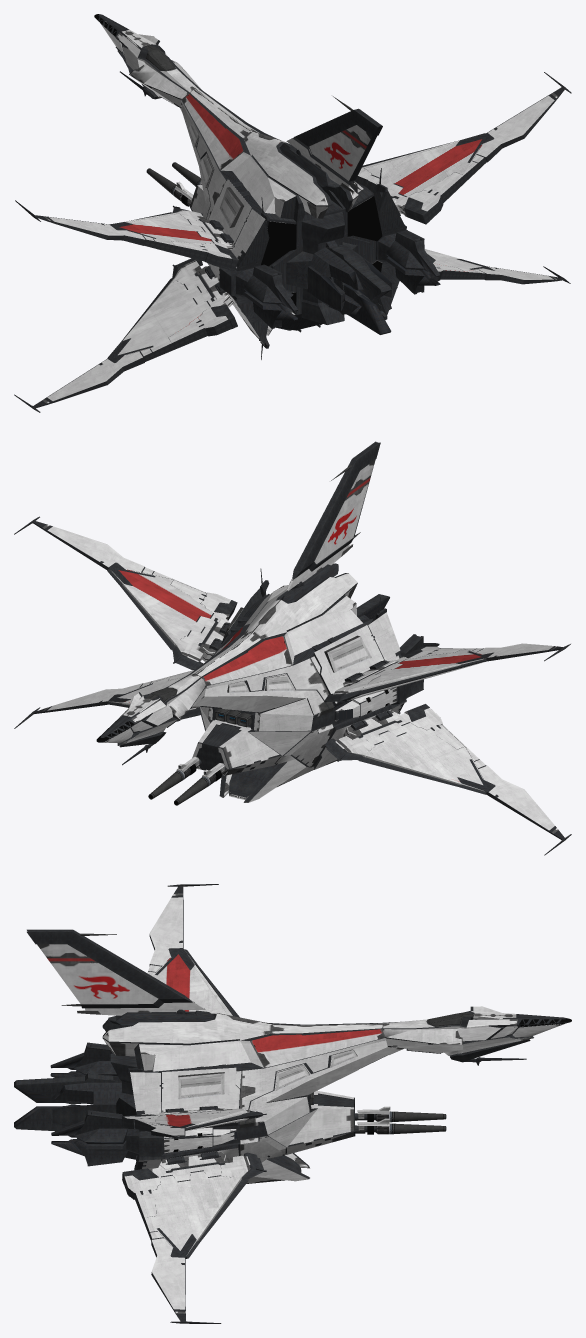
Rendered from gf_assault.glb.
3 views of the same model, one above another, from view 1: azimuth 30°, elevation 25°; view 2: azimuth 150°, elevation 25°; view 3: azimuth 270°, elevation 25° (orthographic). The views are drawn at different scales.
Parts seen in each view (by area): view 1: hull, glass; view 2: hull; view 3: hull.
Boxes of the visible parts, left/top/right/bottom form: hull: left=33, top=14, right=565, bottom=408; glass: left=94, top=14, right=382, bottom=305; hull: left=31, top=441, right=564, bottom=840; hull: left=14, top=885, right=571, bottom=1321.
Bounding box in the file's own units: 5.98 × 2.98 × 5.61.
Materials: 5 (4 with a texture image).
